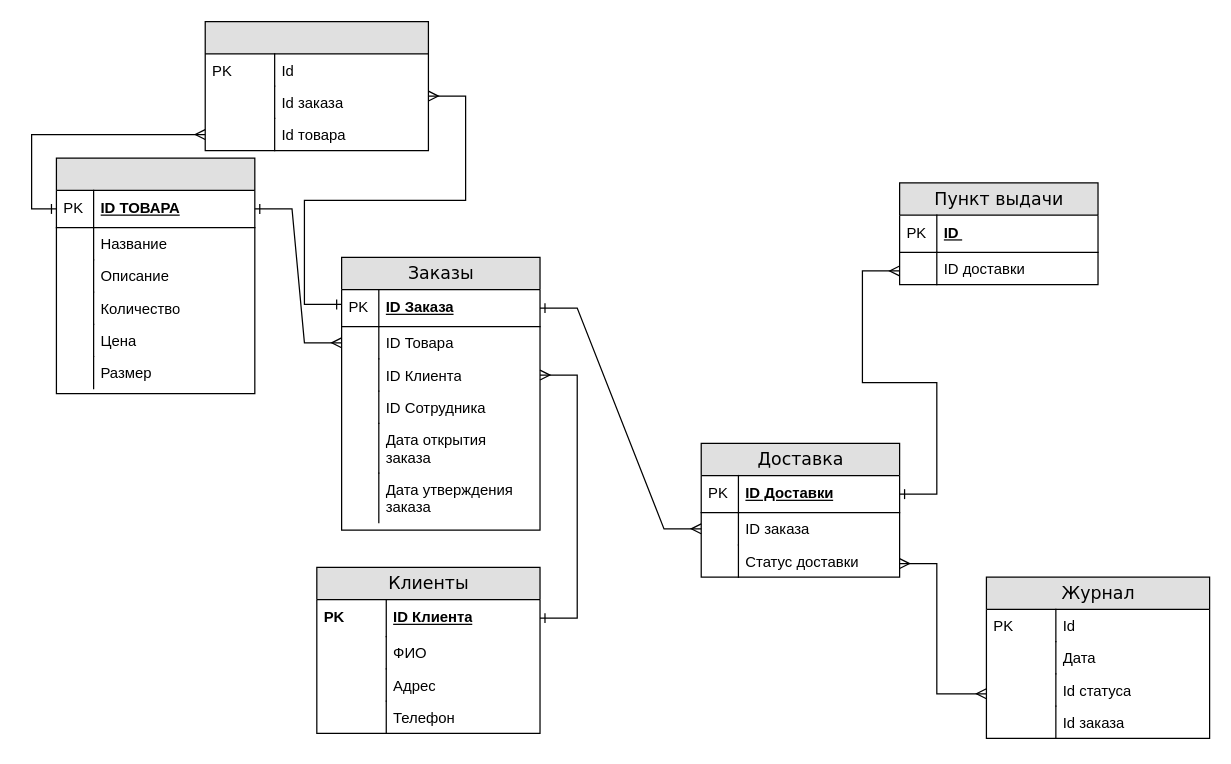
Some shapes in this 1231 by 764 pixel diagram are drawn without their labels. The shapes that lost their labels are listed below. From the top down, each one's box as (x1, y1, x2, y2) in pixels, then its label:
(204, 20, 428, 151): Детали заказов
(55, 157, 255, 394): Товары
